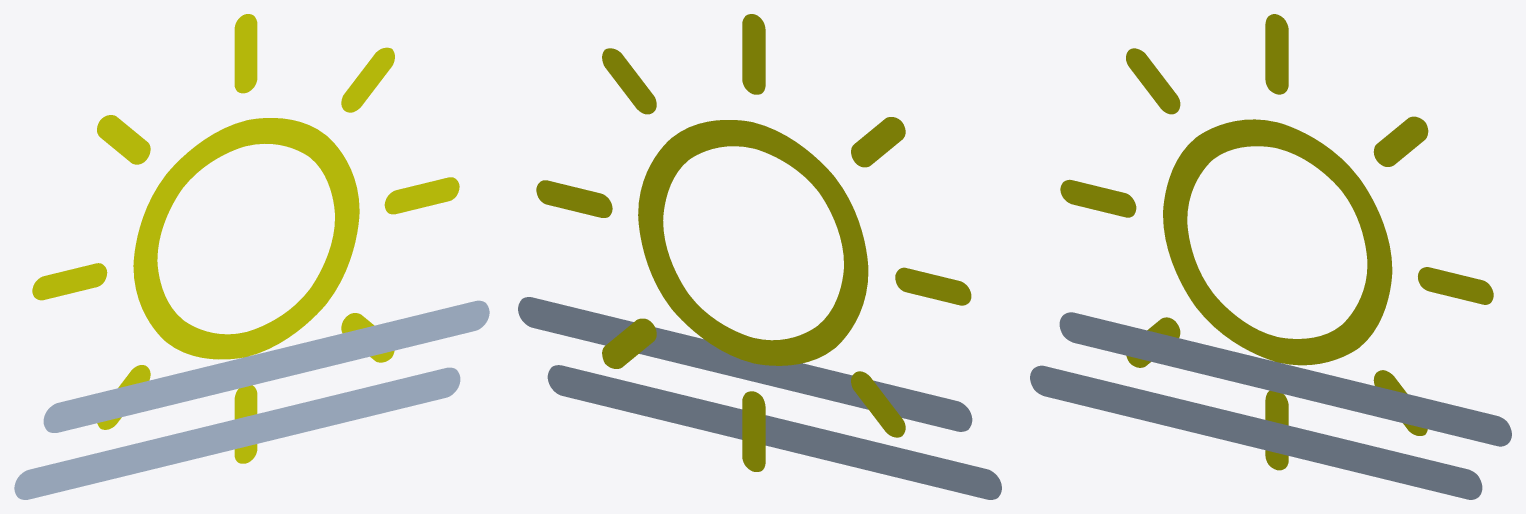
File: humid.glb
3 renders of one model, left to right at view 1: azimuth 30°, elevation 25°; view 2: azimuth 150°, elevation 25°; view 3: azimuth 330°, elevation 25°, orthographic.
Visible parts, largest first — view 1: Sun full.001, fog; view 2: Sun full.001, fog; view 3: Sun full.001, fog.
Boxes of the visible parts, x1,y1,x2,y2 form: Sun full.001: [32, 14, 459, 463]; fog: [14, 300, 489, 499]; Sun full.001: [536, 14, 971, 471]; fog: [518, 297, 1001, 499]; Sun full.001: [1060, 14, 1493, 470]; fog: [1030, 312, 1511, 499].
Bounding box in the file's own units: 0.7338 × 0.6632 × 0.0161.
